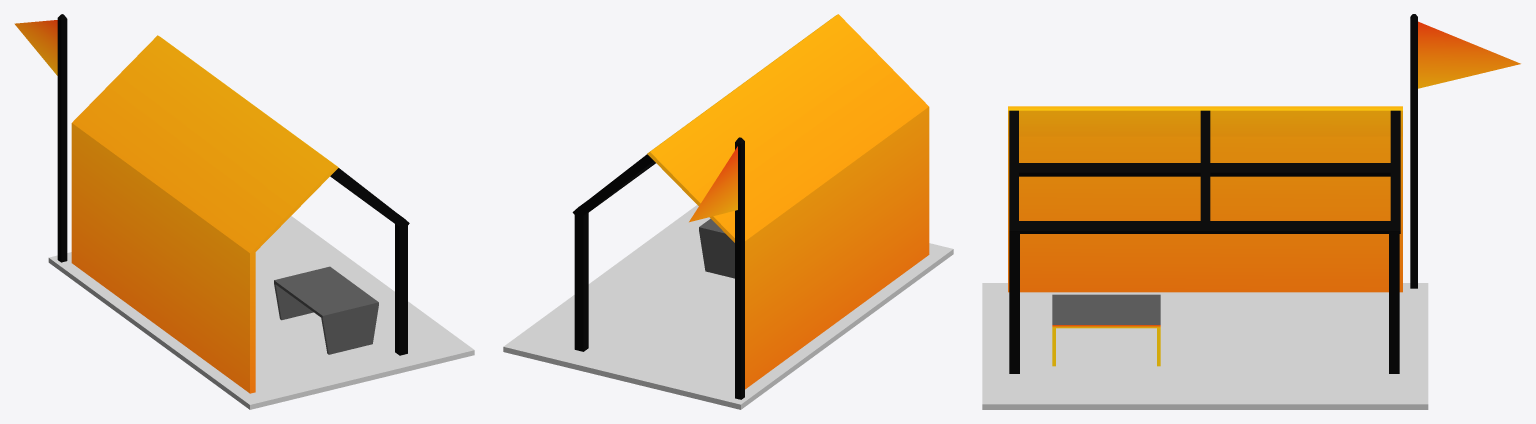
The model's file is stand_bronce2.glb.
The picture shows the model from 3 angles, left to right: view 1: azimuth 30°, elevation 25°; view 2: azimuth 150°, elevation 25°; view 3: azimuth 270°, elevation 25°; orthographic projection. The views are drawn at different scales.
Visible parts, largest first — view 1: Cube.001, Cube, Cube.009, Cube.010, Cube.002, Plane, Cube.007; view 2: Cube.001, Cube, Cube.010, Cube.003, Plane, Cube.009, Cube.006; view 3: Cube.001, Cube, Cube.008, Cube.004, Cube.009, Plane, Cube.010, Cube.002, Cube.003, Cube.006, Cube.005, Cube.007.
Boxes of the visible parts, x1,y1,x2,y2 form: Cube.001: (71,35,338,393); Cube: (48,216,474,409); Cube.009: (274,266,378,354); Cube.010: (57,14,67,262); Cube.002: (395,223,407,355); Plane: (14,20,57,75); Cube.007: (332,168,403,225); Cube.001: (647,14,929,389); Cube: (503,205,953,409); Cube.010: (735,137,744,399); Cube.003: (574,212,588,351); Plane: (689,146,737,222); Cube.009: (699,218,734,278); Cube.006: (578,154,653,214); Cube.001: (1008,106,1402,292); Cube: (982,283,1428,409); Cube.008: (1019,163,1390,176); Cube.004: (1009,221,1400,233); Cube.009: (1052,294,1160,366); Plane: (1418,21,1520,88); Cube.010: (1410,14,1417,288); Cube.002: (1009,231,1019,373); Cube.003: (1389,231,1399,373); Cube.006: (1390,110,1400,220); Cube.005: (1200,110,1210,220); Cube.007: (1009,110,1018,220).
Bounding box in the file's own units: 1.67 × 1.81 × 3.14.
4 materials, 1 textured.
